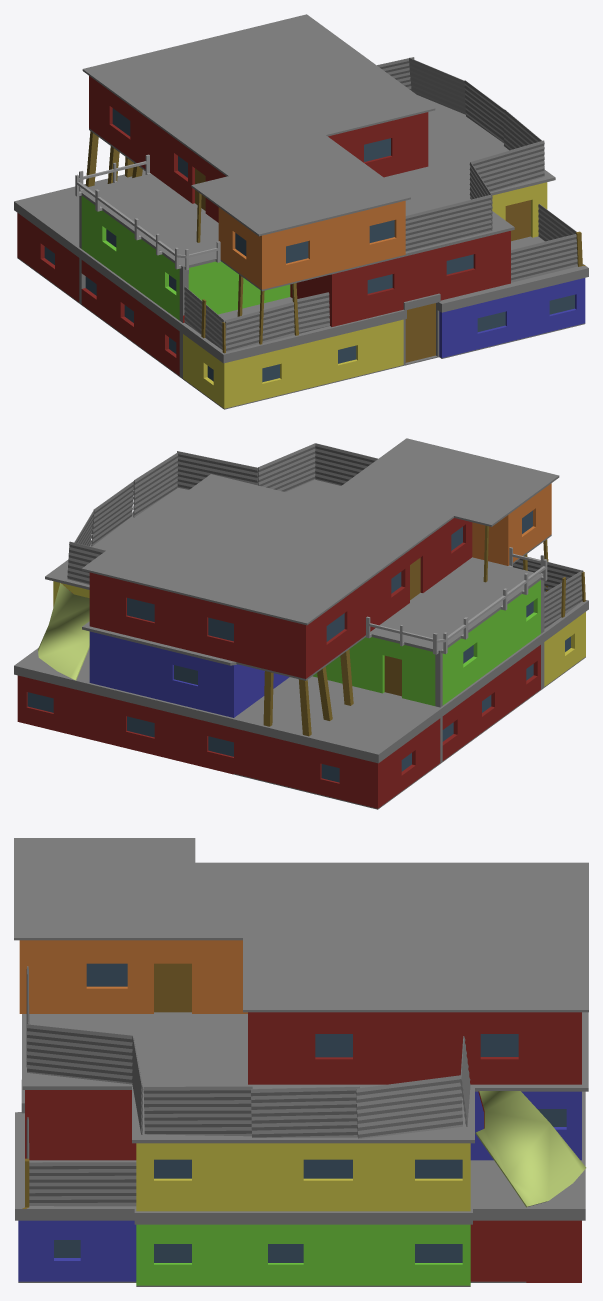
The model's file is Taudis.fbx.
3 views of the same model, one above another, from view 1: azimuth 30°, elevation 25°; view 2: azimuth 150°, elevation 25°; view 3: azimuth 270°, elevation 25° (orthographic). The views are drawn at different scales.
Visible parts, largest first — view 1: Cube.002; view 2: Cube.002; view 3: Cube.002.
Boxes of the visible parts, box(x1,y1,x2,y2) form: Cube.002: box(14, 14, 588, 409); Cube.002: box(14, 438, 588, 809); Cube.002: box(14, 838, 588, 1286).
Size of the model in its own units: 2097 by 910 by 2065.
